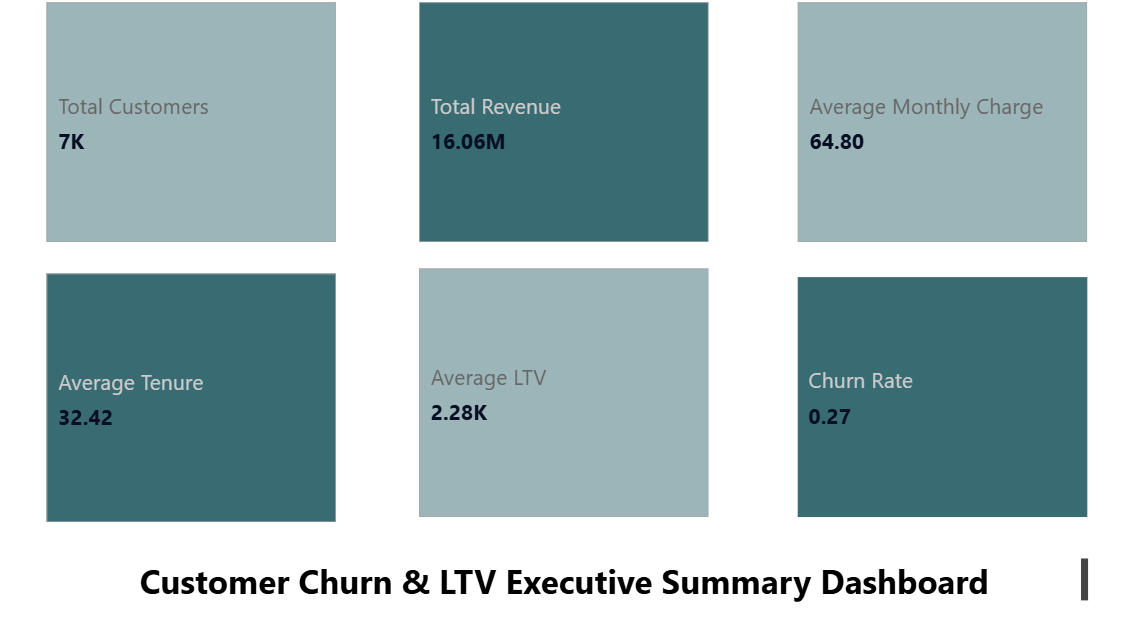

Layout of this report page (visuals, bound fields, positions):
{"tool":"powerbi","page":{"name":"executive_summary","canvas":[1280,720],"ordinal":0},"visuals":[{"type":"cardVisual","fields":{"Data":["ltv_dataset.Total Customers"]},"box":[51.7,0,336.7,280],"z":0},{"type":"cardVisual","fields":{"Data":["ltv_dataset.Total Revenue"]},"box":[471.7,0,336.7,280],"z":1000},{"type":"cardVisual","fields":{"Data":["ltv_dataset.Average Monthly Charge"]},"box":[898.3,0,336.7,280],"z":2000},{"type":"cardVisual","fields":{"Data":["ltv_dataset.Average Tenure"]},"box":[51.7,305,336.7,290],"z":3000},{"type":"cardVisual","fields":{"Data":["ltv_dataset.Churn Rate"]},"box":[898.3,310,336.7,280],"z":4000},{"type":"cardVisual","fields":{"Data":["ltv_dataset.Average LTV"]},"box":[471.7,300,336.7,290],"z":5000},{"type":"textbox","box":[51.7,626.7,1183.3,58.3],"z":6000}]}

Visuals, with their boxes in screenshot pixels (x1, y1, x2, y2), scaled from the page's 1280x720 canvas onto the 1123x628 screenshot:
cardVisual - ltv_dataset.Total Customers: 45,0,341,244
cardVisual - ltv_dataset.Total Revenue: 414,0,709,244
cardVisual - ltv_dataset.Average Monthly Charge: 788,0,1084,244
cardVisual - ltv_dataset.Average Tenure: 45,266,341,519
cardVisual - ltv_dataset.Churn Rate: 788,270,1084,515
cardVisual - ltv_dataset.Average LTV: 414,262,709,515
textbox: 45,547,1084,597
